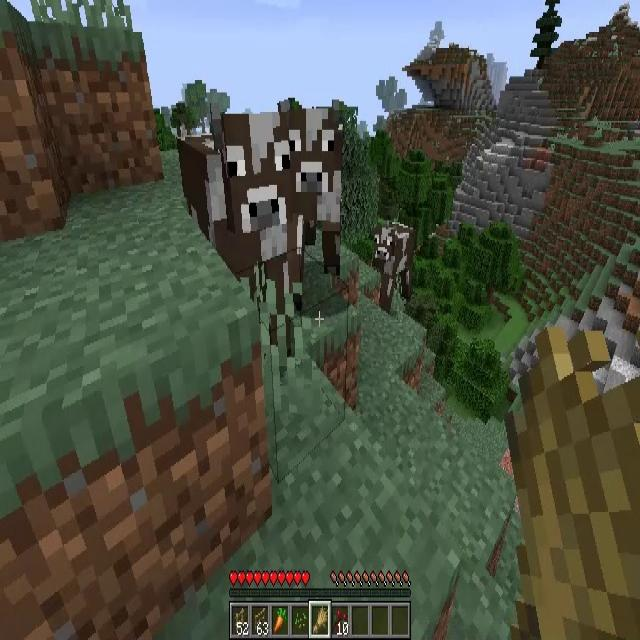cow: (178, 112, 290, 310), (290, 107, 342, 279), (375, 220, 416, 308)
